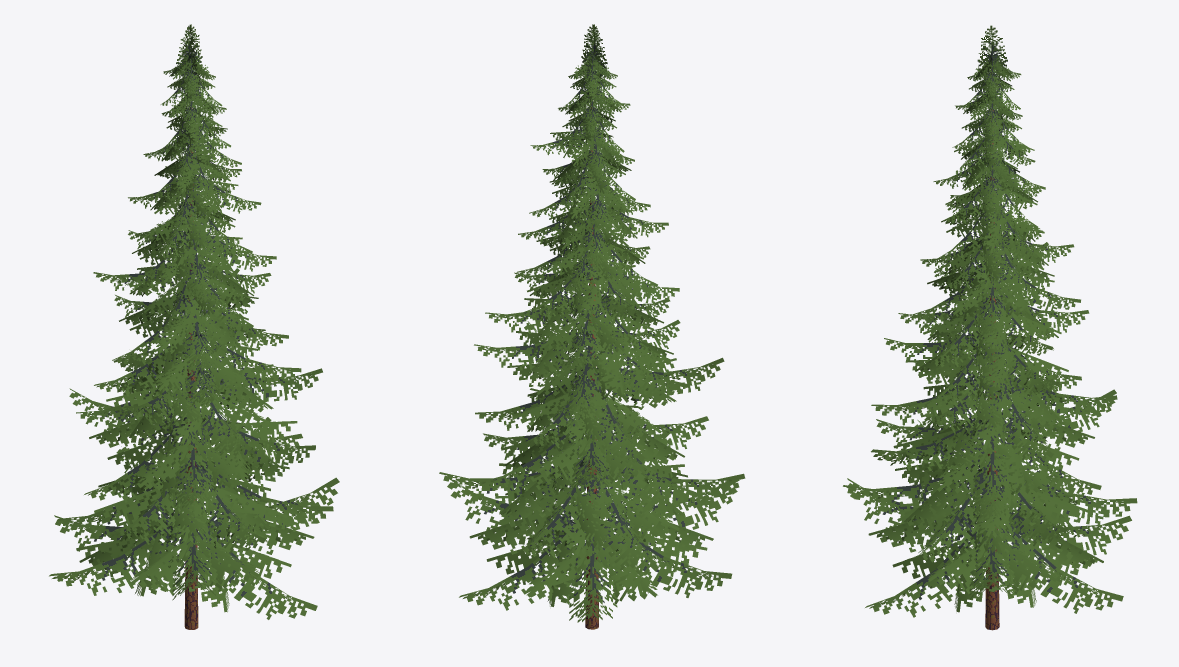
The model's file is hemlock.glb.
3 renders of one model, left to right at view 1: azimuth 30°, elevation 25°; view 2: azimuth 150°, elevation 25°; view 3: azimuth 270°, elevation 25°, orthographic.
Visible parts, largest first — view 1: HemlockYoung; view 2: HemlockYoung; view 3: HemlockYoung.
Boxes of the visible parts, x1,y1,x2,y2 form: HemlockYoung: [49, 24, 339, 629]; HemlockYoung: [439, 24, 745, 629]; HemlockYoung: [843, 25, 1137, 630].
Bounding box in the file's own units: 8.51 × 14.97 × 8.06.
Materials: 2 (2 with a texture image).
